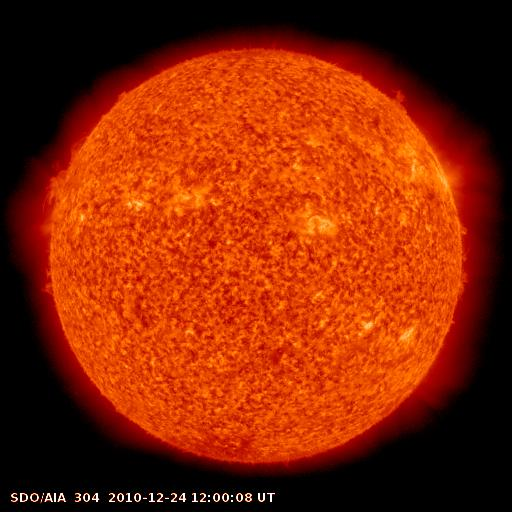prominence: (31, 123, 94, 215), (452, 219, 485, 298), (13, 253, 64, 303), (372, 73, 421, 122)
